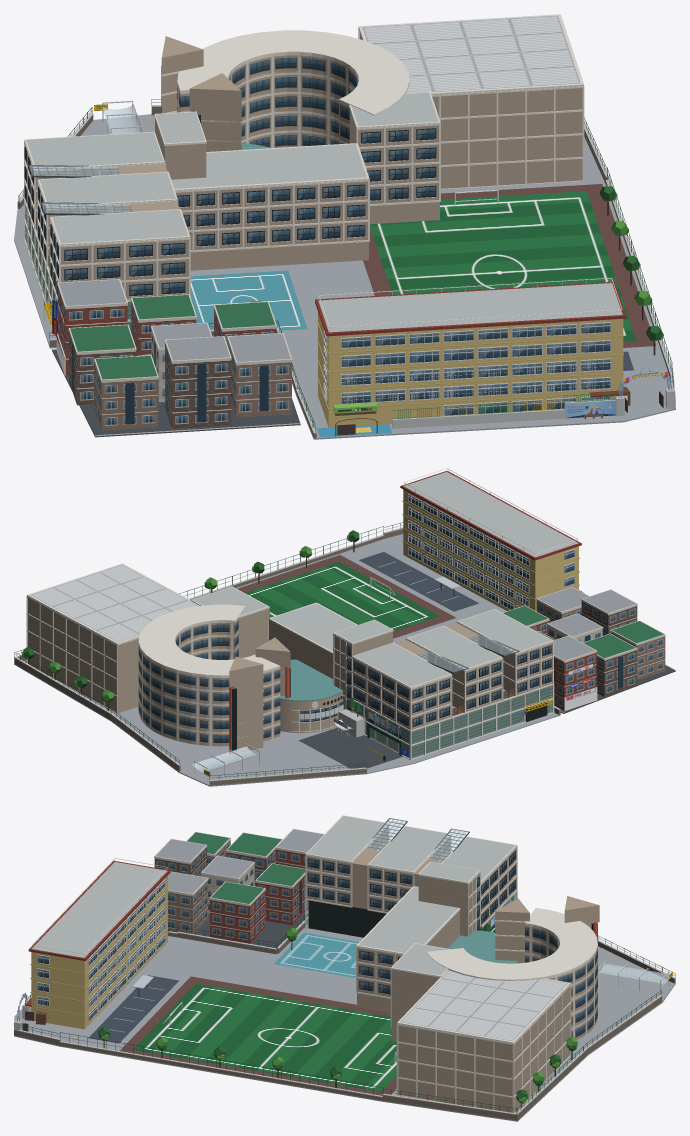
The model's file is place_금호초등학교1.glb.
3 views of the same model, one above another, from view 1: azimuth 30°, elevation 25°; view 2: azimuth 150°, elevation 25°; view 3: azimuth 270°, elevation 25° (orthographic). The views are drawn at different scales.
Visible parts, largest first — view 1: Merged_Field_SoccerTurf, Campus_Exact14Pt_GroundSlab, Merged_Yellow_Core, Merged_Gym_BrightRibRoof, Merged_Gym_Core, Merged_WhiteGridRibs (×2), Merged_WinGlass_Class, Merged_Cult_Roof, Hero_CShaped_5F_MainRing, Merged_Yellow_Roof, Merged_Central_BarCore, Merged_WinGlass_Culture (×2) (+42 smaller); view 2: Campus_Exact14Pt_GroundSlab, Hero_CShaped_5F_MainRing, Merged_WhiteGridRibs (×2), Merged_Gym_Core, Merged_Gym_BrightRibRoof, Merged_Field_SoccerTurf, Merged_Cult_Roof, Merged_Yellow_Core, Merged_Cult_TaupeCores, Merged_Yellow_Roof, Merged_CRing_WhiteBands, Merged_WinGlass_Class (+42 smaller); view 3: Merged_Field_SoccerTurf, Campus_Exact14Pt_GroundSlab, Merged_Gym_Core, Merged_Gym_BrightRibRoof, Merged_WhiteGridRibs (×2), Merged_Yellow_Core, Merged_Cult_Roof, Merged_Yellow_Roof, Merged_CRing_WhiteBands, Merged_Boundary_StoneWall, Merged_House_RedBrick, Merged_Cult_TaupeCores (+38 smaller).
Part boxes in pixels (bbox=[...]): Merged_Field_SoccerTurf: bbox=[370, 191, 636, 341]; Campus_Exact14Pt_GroundSlab: bbox=[14, 114, 675, 439]; Merged_Yellow_Core: bbox=[318, 312, 623, 427]; Merged_Gym_BrightRibRoof: bbox=[362, 15, 580, 93]; Merged_Gym_Core: bbox=[360, 33, 582, 188]; Merged_WhiteGridRibs (×2): bbox=[24, 27, 584, 323]; Merged_WinGlass_Class: bbox=[324, 323, 610, 415]; Merged_Cult_Roof: bbox=[26, 132, 188, 243]; Hero_CShaped_5F_MainRing: bbox=[177, 53, 406, 147]; Merged_Yellow_Roof: bbox=[318, 283, 622, 332]; Merged_Central_BarCore: bbox=[176, 181, 368, 270]; Merged_WinGlass_Culture (×2): bbox=[26, 129, 435, 295]; Campus_Exact14Pt_GroundSlab: bbox=[14, 534, 560, 786]; Hero_CShaped_5F_MainRing: bbox=[138, 618, 280, 746]; Merged_WhiteGridRibs (×2): bbox=[26, 596, 554, 760]; Merged_Gym_Core: bbox=[28, 598, 138, 713]; Merged_Gym_BrightRibRoof: bbox=[30, 564, 197, 642]; Merged_Field_SoccerTurf: bbox=[245, 562, 439, 631]; Merged_Cult_Roof: bbox=[354, 609, 551, 686]; Merged_Yellow_Core: bbox=[403, 489, 578, 611]; Merged_Cult_TaupeCores: bbox=[353, 623, 552, 729]; Merged_Yellow_Roof: bbox=[404, 472, 578, 557]; Merged_CRing_WhiteBands: bbox=[138, 604, 280, 732]; Merged_WinGlass_Class: bbox=[408, 495, 574, 609]; Merged_Field_SoccerTurf: bbox=[133, 983, 396, 1092]; Campus_Exact14Pt_GroundSlab: bbox=[14, 924, 675, 1121]; Merged_Gym_Core: bbox=[398, 987, 569, 1112]; Merged_Gym_BrightRibRoof: bbox=[400, 970, 567, 1041]; Merged_WhiteGridRibs (×2): bbox=[305, 824, 571, 1113]; Merged_Yellow_Core: bbox=[31, 875, 167, 1029]; Merged_Cult_Roof: bbox=[307, 816, 515, 880]; Merged_Yellow_Roof: bbox=[32, 862, 167, 957]; Merged_CRing_WhiteBands: bbox=[426, 907, 597, 1026]; Merged_Boundary_StoneWall: bbox=[14, 919, 675, 1120]; Merged_House_RedBrick: bbox=[210, 849, 308, 943]; Merged_Cult_TaupeCores: bbox=[306, 827, 516, 925].
Size of the model in its own units: 135 by 22.12 by 148.
97 materials, 48 textured.
